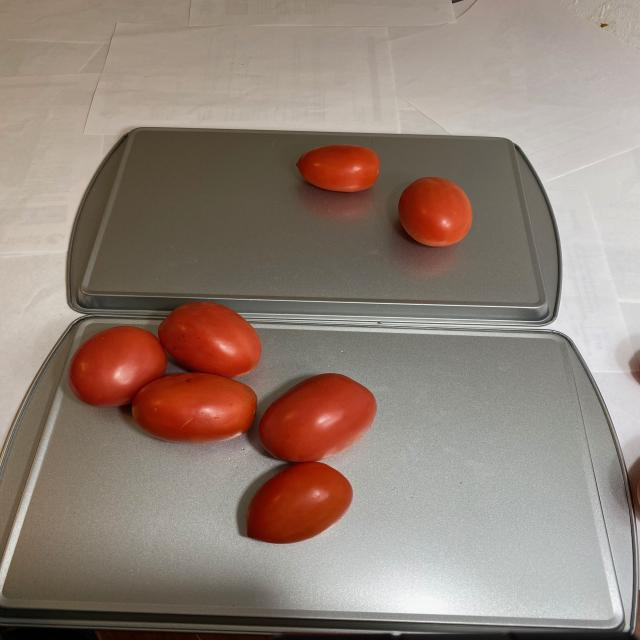tomato: (63, 304, 376, 548), (292, 144, 471, 254)
